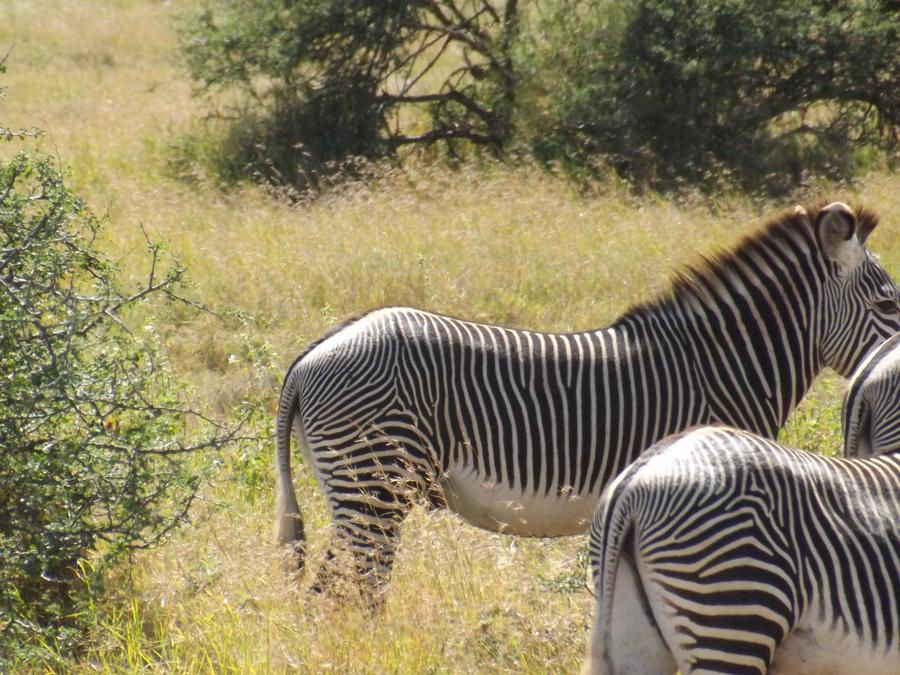zebra_grevys: (273, 277, 592, 505)
